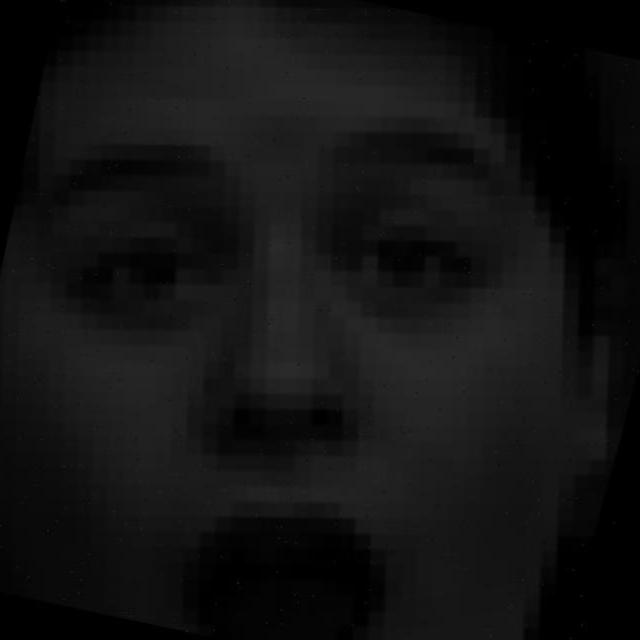Surprised: (26, 56, 616, 640)
